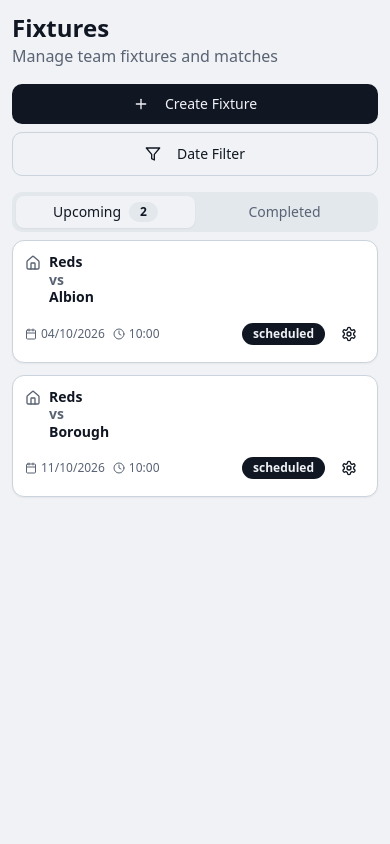
Scenario: Fixtures delete confirmation (BUG-025) › clicking Delete in the menu does not delete
Expected: the text "Albion" is shown, [49,287,94,306]
Press Enter in the button without text in the row of "04/10/2026", box [333,318,365,350]
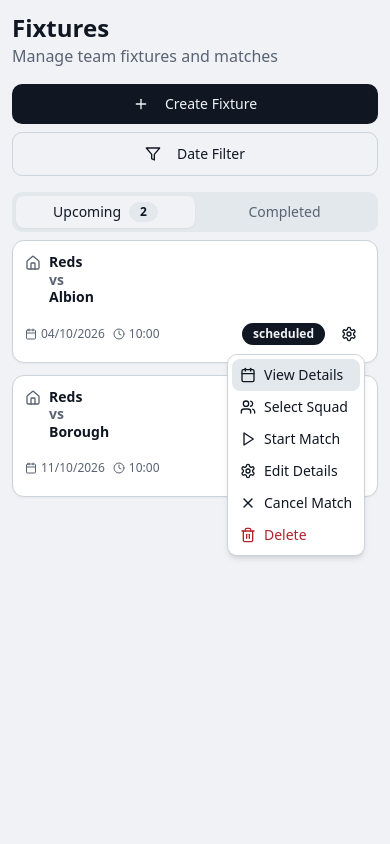
Click the menu item "Delete": point(273, 534) [240,525,307,544]
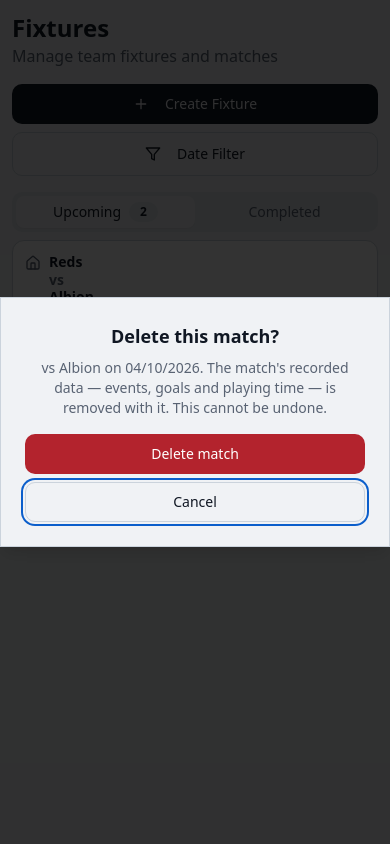
Expected: the dialog is shown, [0,297,389,547]
